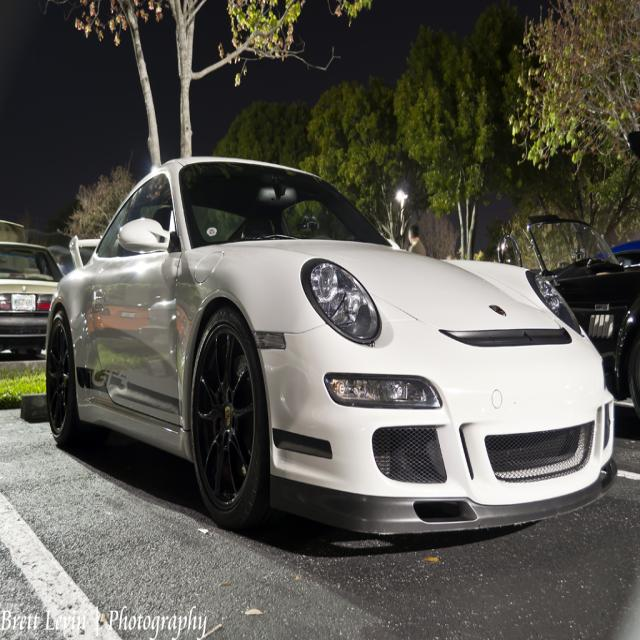car: (47, 151, 614, 538)
